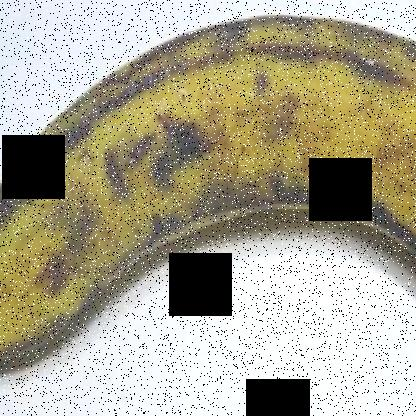overripe: (1, 0, 415, 381)
